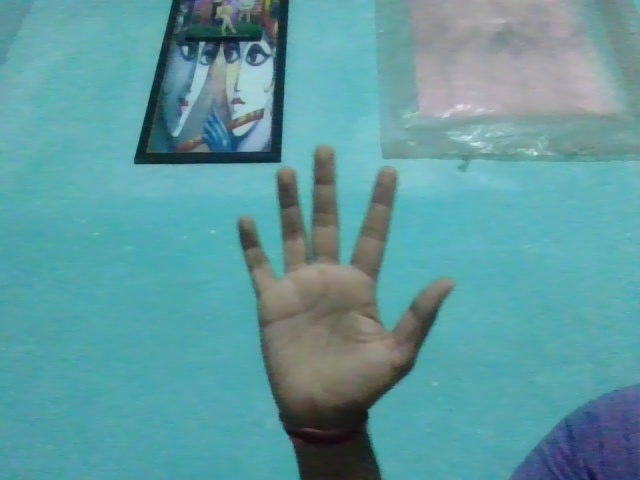hello: (226, 147, 461, 430)
